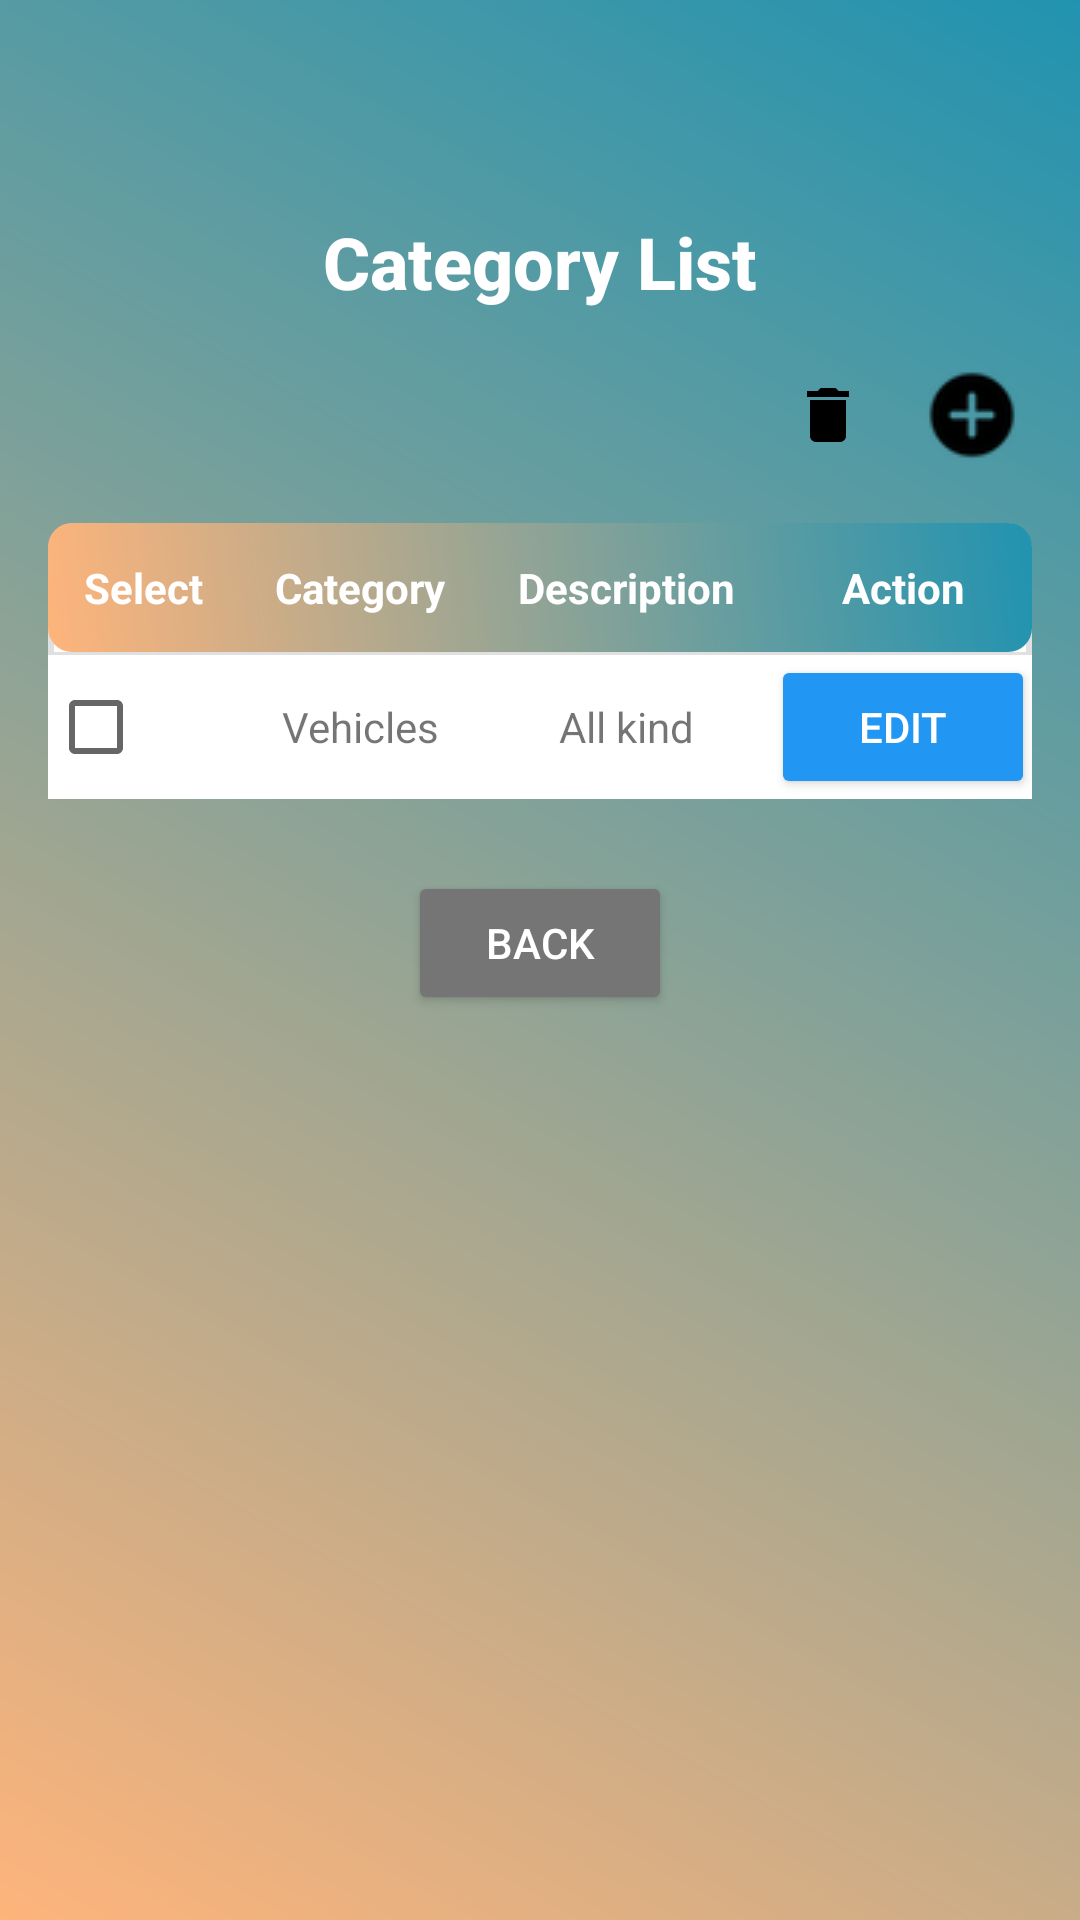

Point at icon controls on the screen. Image size 1080w x 1920h, points as (x=x, y=y).
Add a new category: (x=972, y=415)
Delete selected category: (x=828, y=415)
